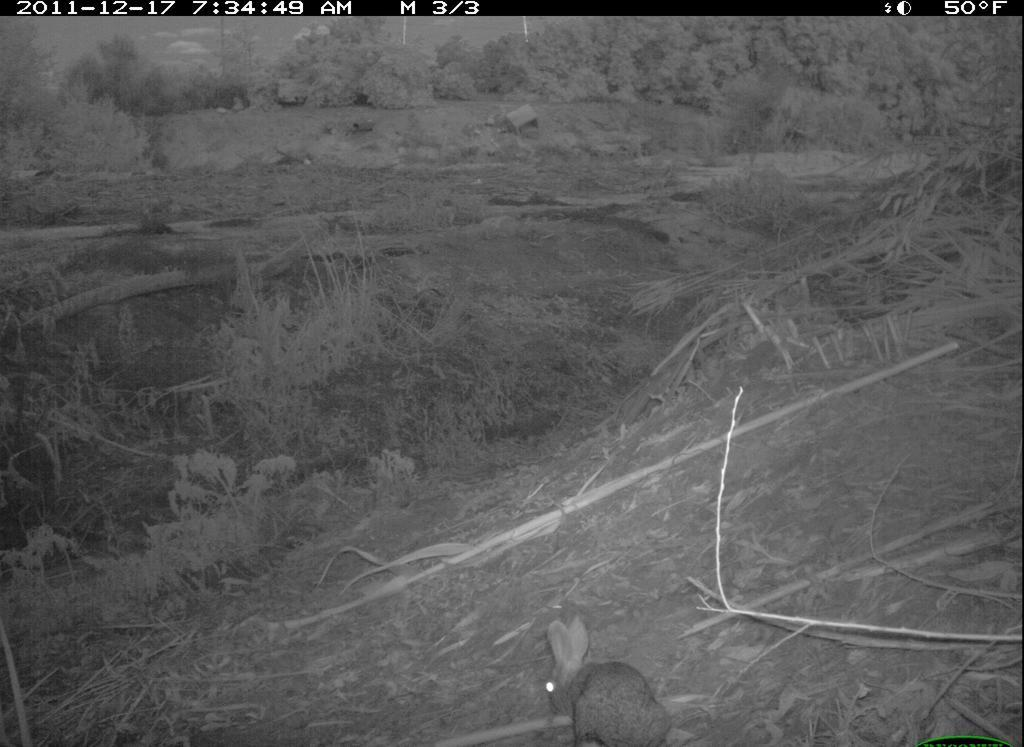rabbit: (532, 612, 687, 747)
